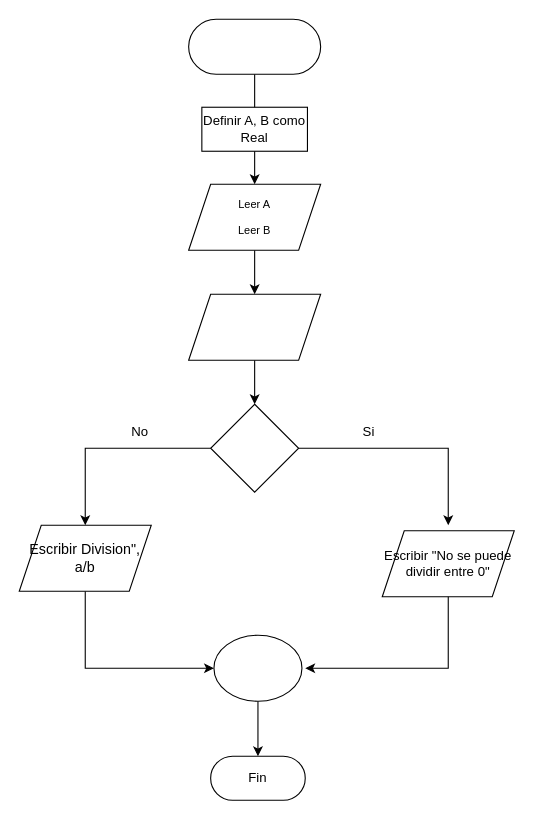
This 534x820 diagram has some shape labels left out. The shapes that lost their labels are listed below. From the top down, each one's centre as x and y in pixels, then its label:
point 254,46: Inicio
point 254,326: Escribir "Suma:", a+b Escribir "Resta:", a-b Escribir "Producto:", a*b
point 254,447: Si b=0
